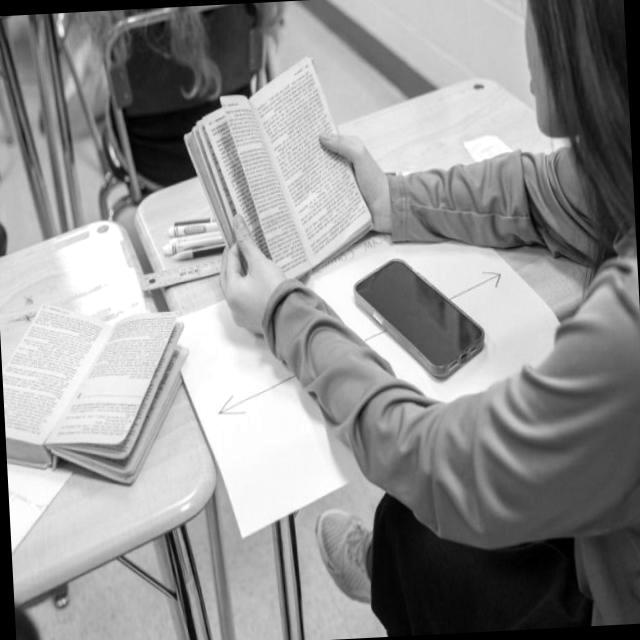phone: (353, 252, 488, 384)
